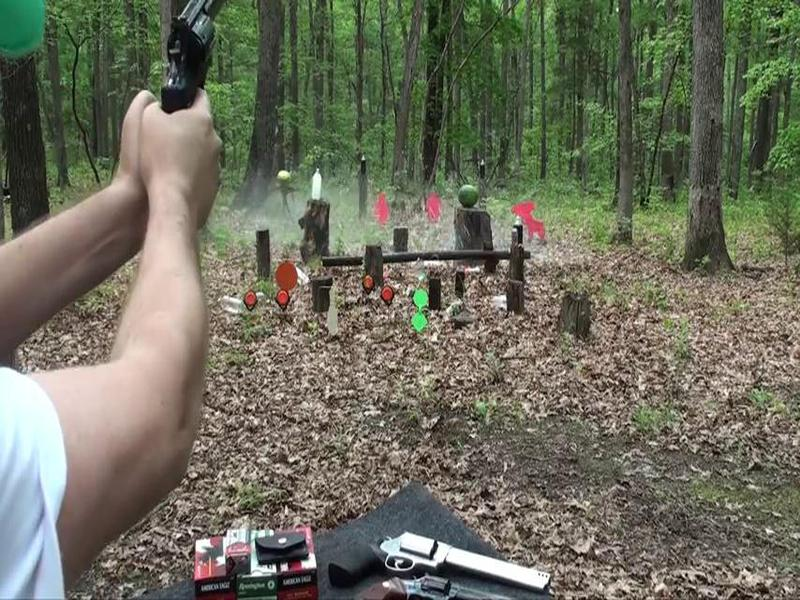Revolver: (150, 1, 225, 140)
